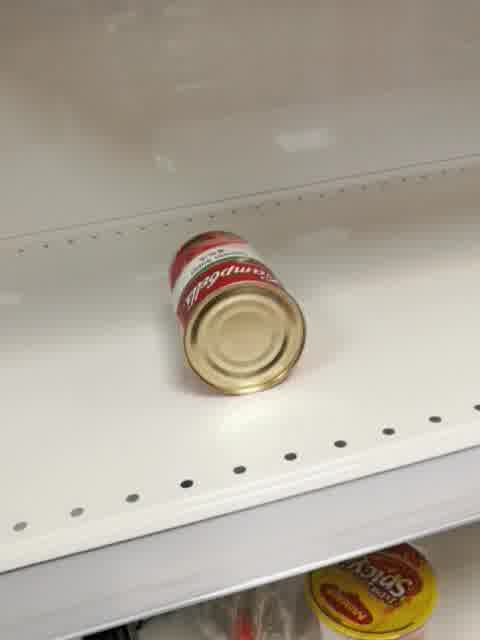tomatosoup: (166, 228, 307, 399)
